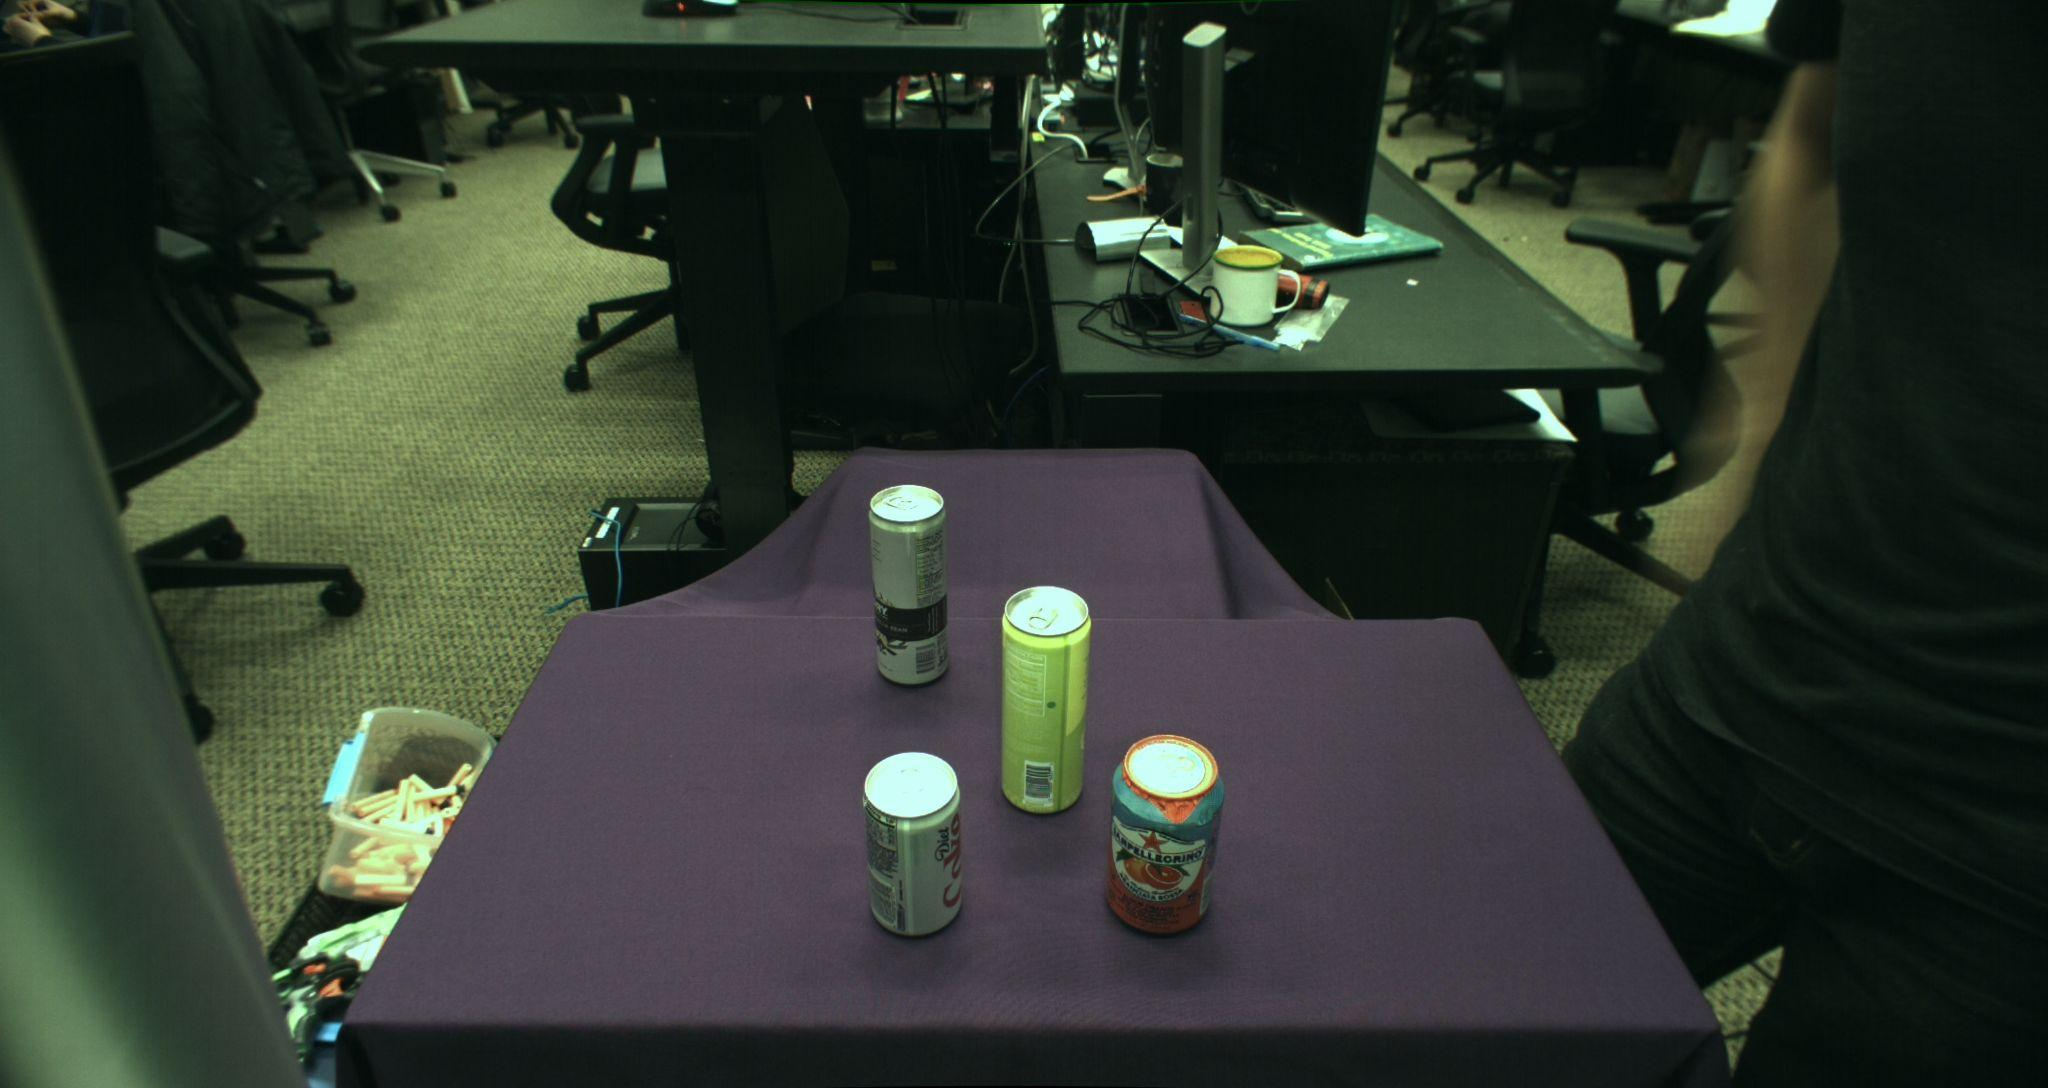can_diet_coke_small: (864, 751, 964, 938)
can_dry_sparkling_vanilla_bean: (867, 481, 952, 686)
can_izze_fusions_lemon_lime: (1000, 585, 1090, 816)
can_sanpellegrino_blood_orange: (1105, 733, 1226, 938)
